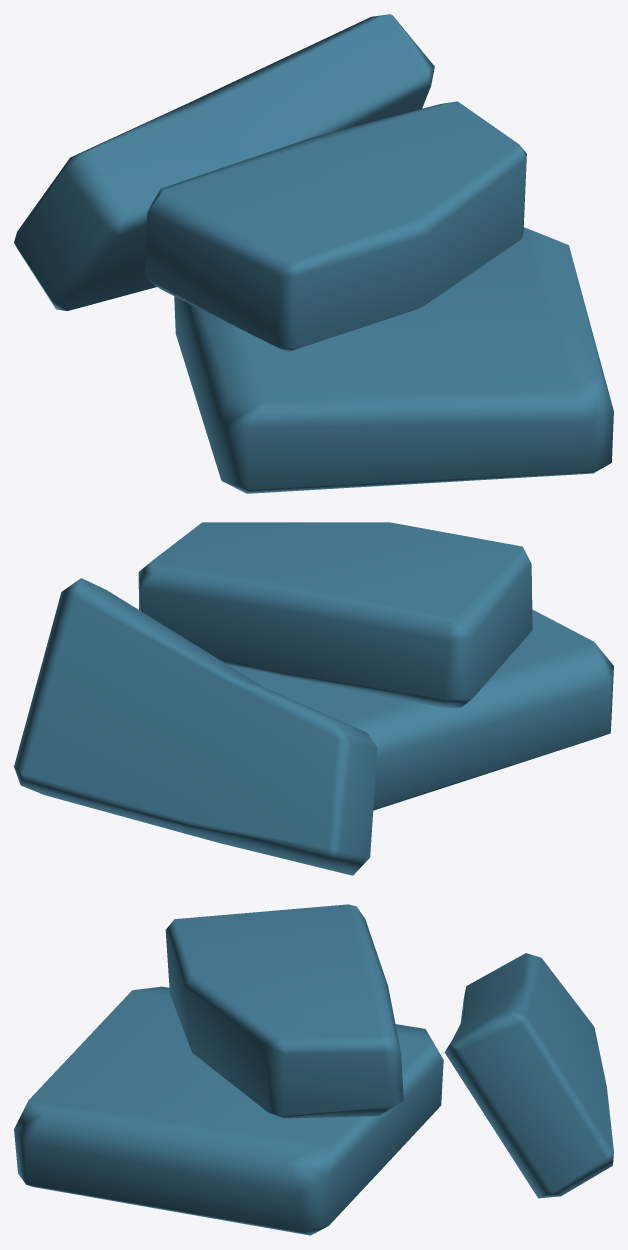
File: Slab_Pile_01_Lod0.fbx
3 views of the same model, one above another, from view 1: azimuth 30°, elevation 25°; view 2: azimuth 150°, elevation 25°; view 3: azimuth 270°, elevation 25° (orthographic). The views are drawn at different scales.
Parts seen in each view (by area): view 1: Slab_Pile_01_Lod0; view 2: Slab_Pile_01_Lod0; view 3: Slab_Pile_01_Lod0.
Boxes of the visible parts, x1,y1,x2,y2 form: Slab_Pile_01_Lod0: (14, 14, 613, 493); Slab_Pile_01_Lod0: (14, 522, 613, 875); Slab_Pile_01_Lod0: (14, 904, 613, 1235).
Size of the model in its own units: 45.79 by 24.14 by 63.2.
